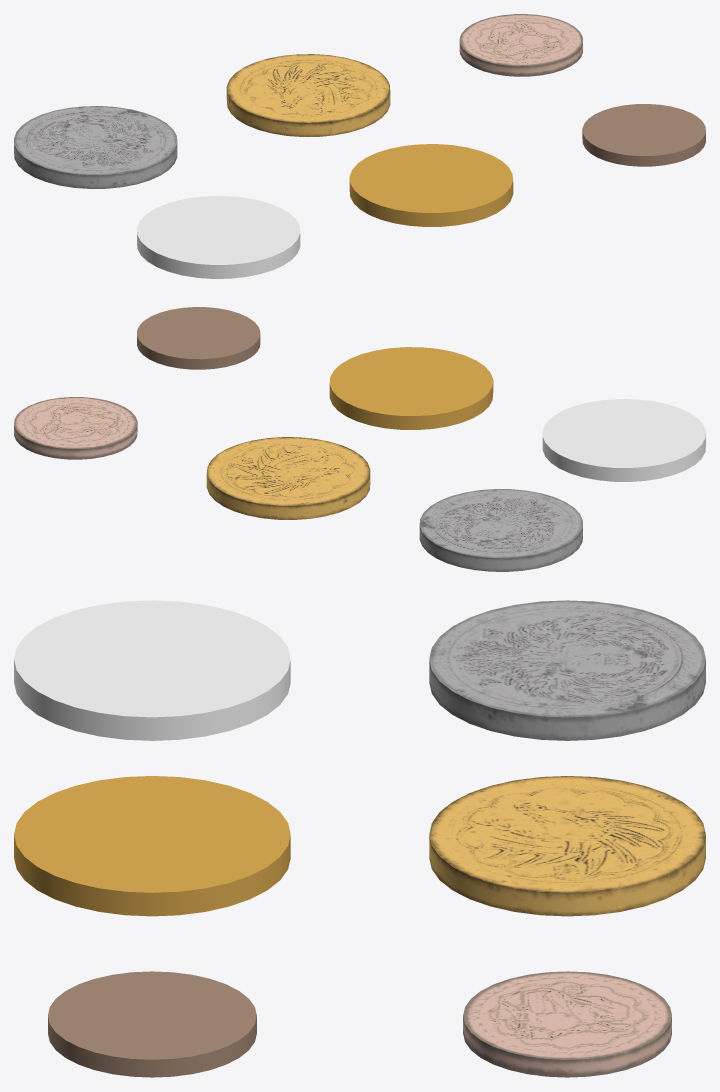
3 renders of one model, top to bottom at view 1: azimuth 30°, elevation 25°; view 2: azimuth 150°, elevation 25°; view 3: azimuth 270°, elevation 25°, orthographic. The views are drawn at different scales.
Parts seen in each view (by area): view 1: Coin_Gold-Old, Coin_Gold-New, Coin_Silver-Old, Coin_Silver-New, Coin_Copper-Old, Coin_Copper-New; view 2: Coin_Gold-New, Coin_Gold-Old, Coin_Silver-New, Coin_Silver-Old, Coin_Copper-Old, Coin_Copper-New; view 3: Coin_Silver-Old, Coin_Silver-New, Coin_Gold-Old, Coin_Gold-New, Coin_Copper-Old, Coin_Copper-New.
Part boxes in pixels (x1,y1,x2,y2): Coin_Gold-Old: (226, 54, 390, 136); Coin_Gold-New: (349, 144, 513, 226); Coin_Silver-Old: (14, 106, 177, 188); Coin_Silver-New: (137, 196, 300, 278); Coin_Copper-Old: (459, 14, 582, 76); Coin_Copper-New: (582, 104, 705, 166); Coin_Gold-New: (329, 347, 493, 429); Coin_Gold-Old: (206, 437, 370, 519); Coin_Silver-New: (542, 399, 705, 481); Coin_Silver-Old: (419, 489, 582, 571); Coin_Copper-Old: (14, 397, 137, 459); Coin_Copper-New: (137, 307, 260, 369); Coin_Silver-Old: (429, 600, 705, 740); Coin_Silver-New: (14, 600, 290, 740); Coin_Gold-Old: (429, 776, 705, 916); Coin_Gold-New: (14, 776, 290, 916); Coin_Copper-Old: (463, 971, 671, 1077); Coin_Copper-New: (48, 971, 256, 1077).
Bounding box in the file's own units: 20.16 × 0.4882 × 12.99.
Materials: 1 (1 with a texture image).
